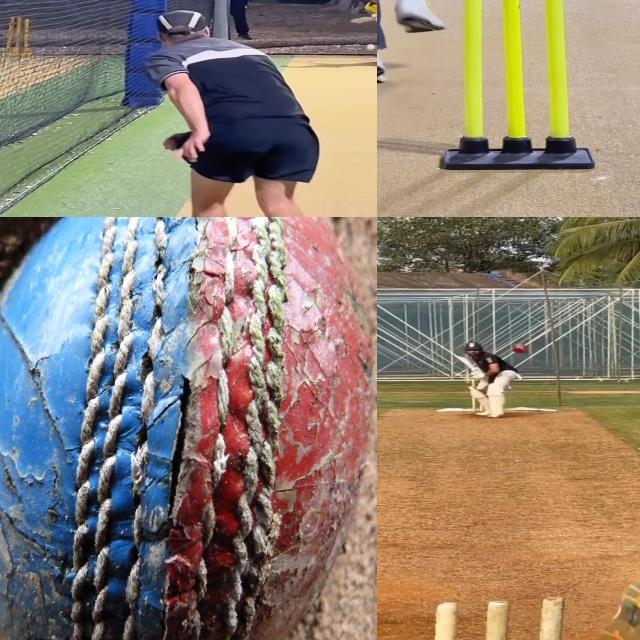Cricket ball: (0, 217, 377, 640), (512, 344, 530, 354), (366, 43, 376, 51)
Stumps: (440, 0, 597, 170), (433, 596, 575, 640)
